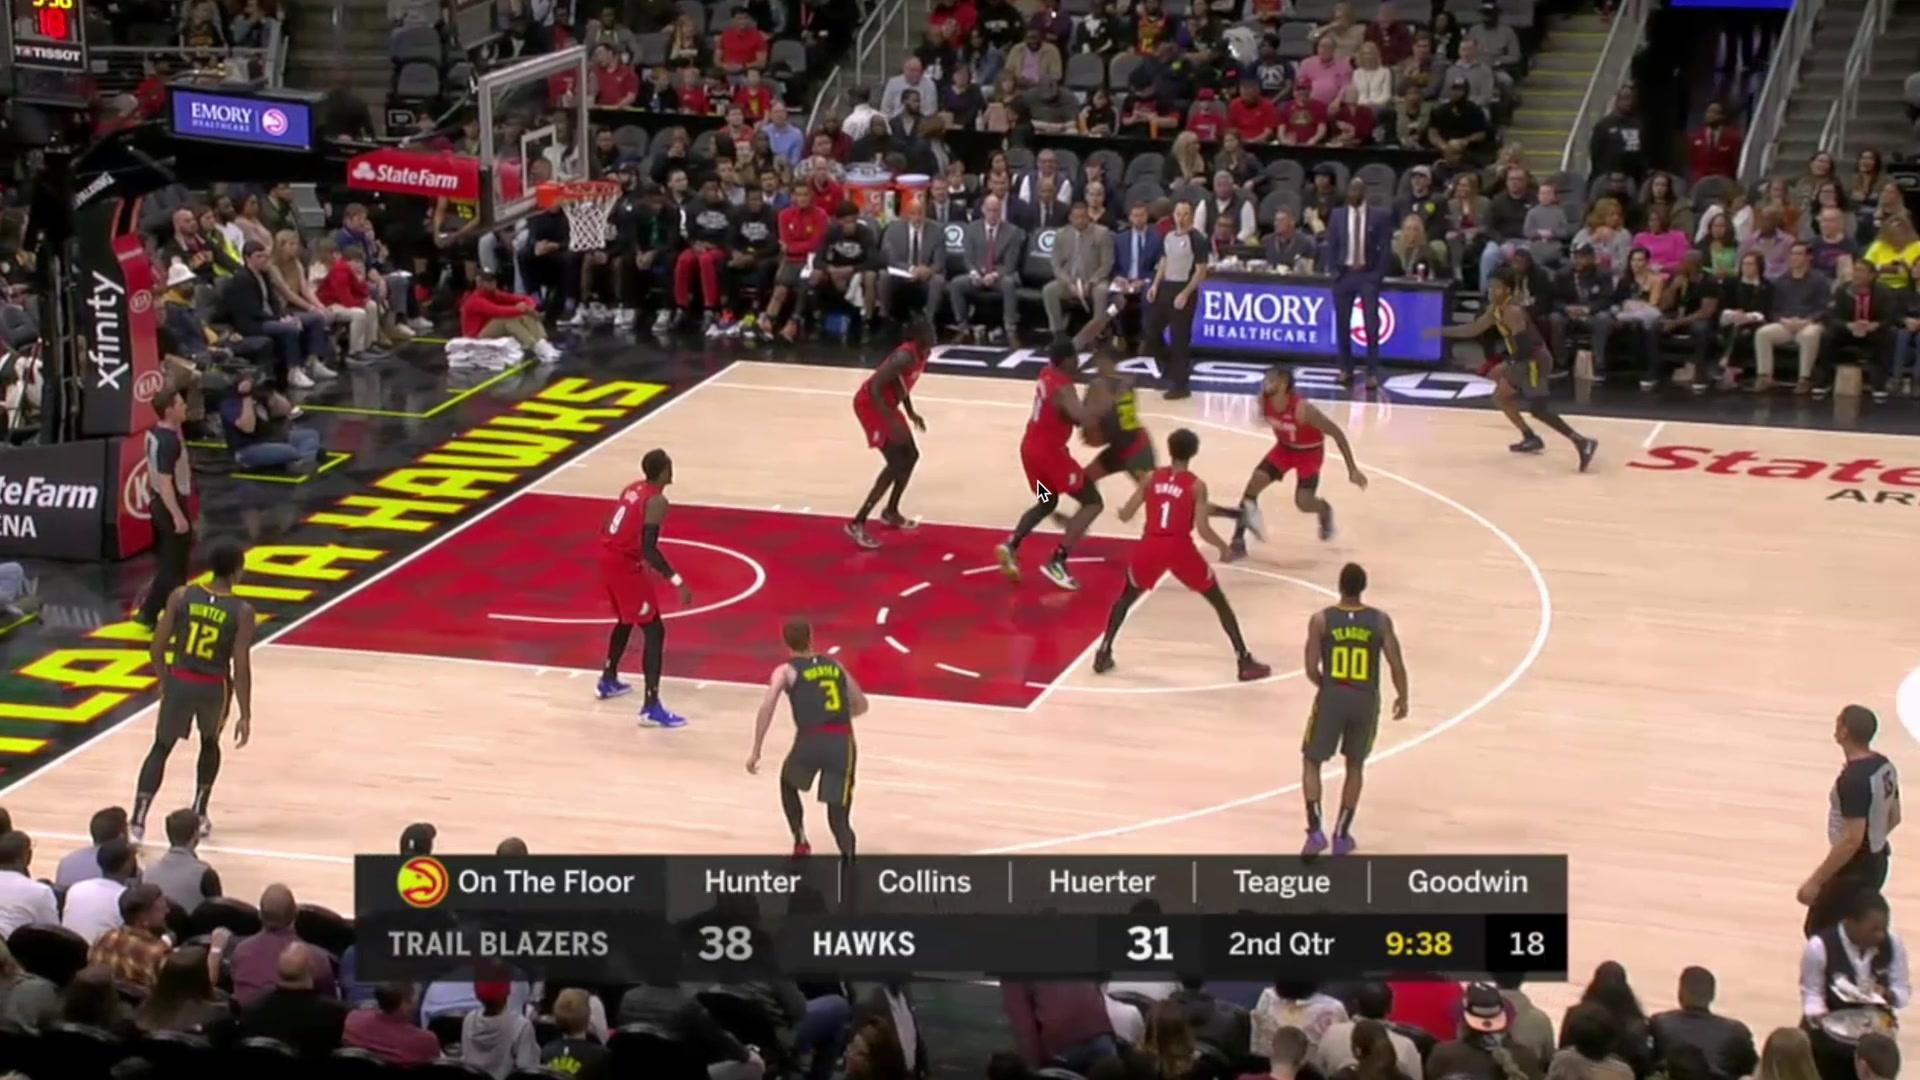no_foul: (1027, 340, 1138, 543)
